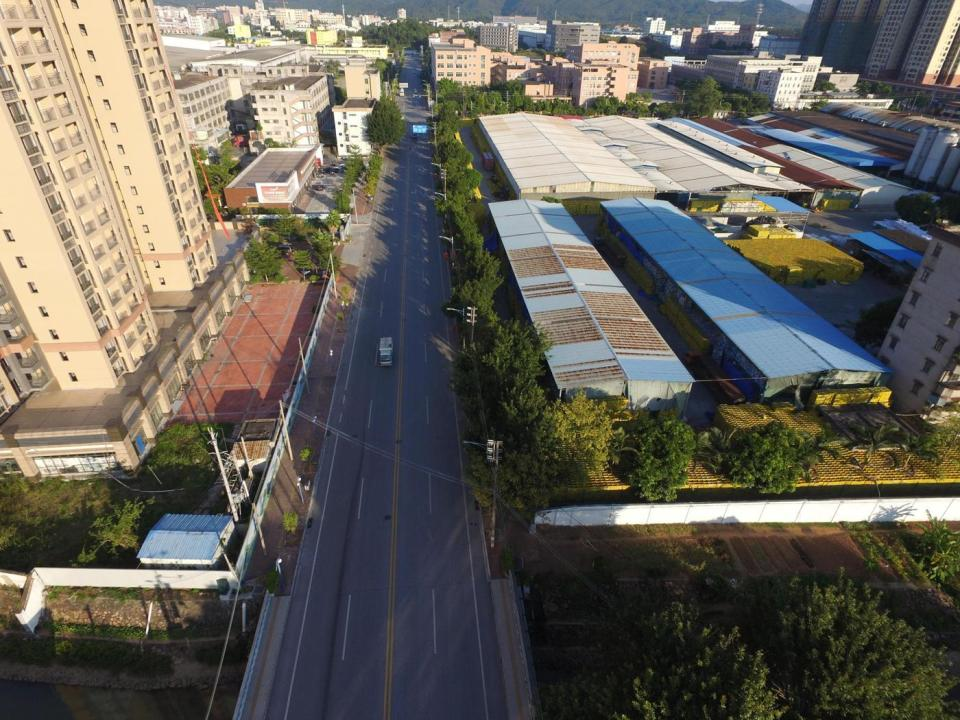car: (302, 259, 311, 275), (328, 167, 340, 174), (320, 166, 331, 173), (342, 154, 353, 160), (316, 185, 324, 192), (340, 168, 349, 173)
truck: (377, 337, 395, 367), (410, 125, 418, 140), (399, 87, 404, 97)
van: (272, 244, 292, 257)
